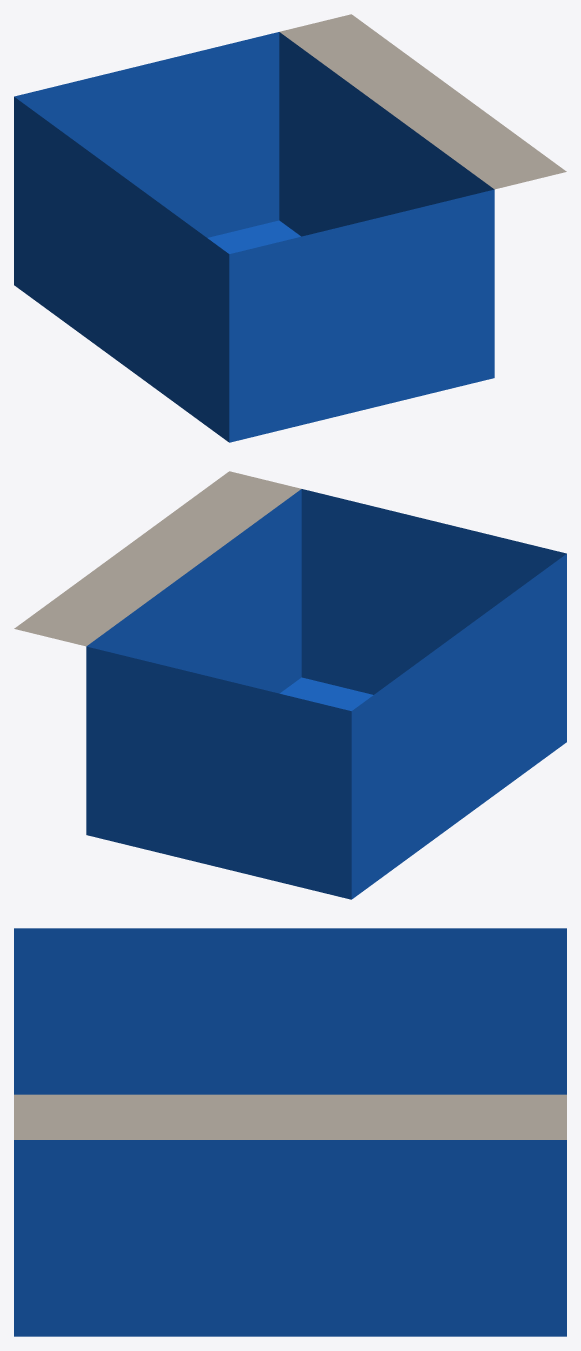
File: shooting_F.fbx
3 views of the same model, one above another, from view 1: azimuth 30°, elevation 25°; view 2: azimuth 150°, elevation 25°; view 3: azimuth 270°, elevation 25° (orthographic). The views are drawn at different scales.
Parts seen in each view (by area): view 1: Genre.002; view 2: Genre.002; view 3: Genre.002.
Boxes of the visible parts, x1,y1,x2,y2 form: Genre.002: (14, 14, 566, 442); Genre.002: (14, 471, 566, 899); Genre.002: (14, 928, 566, 1336).
Size of the model in its own units: 1277 by 682 by 1411.
